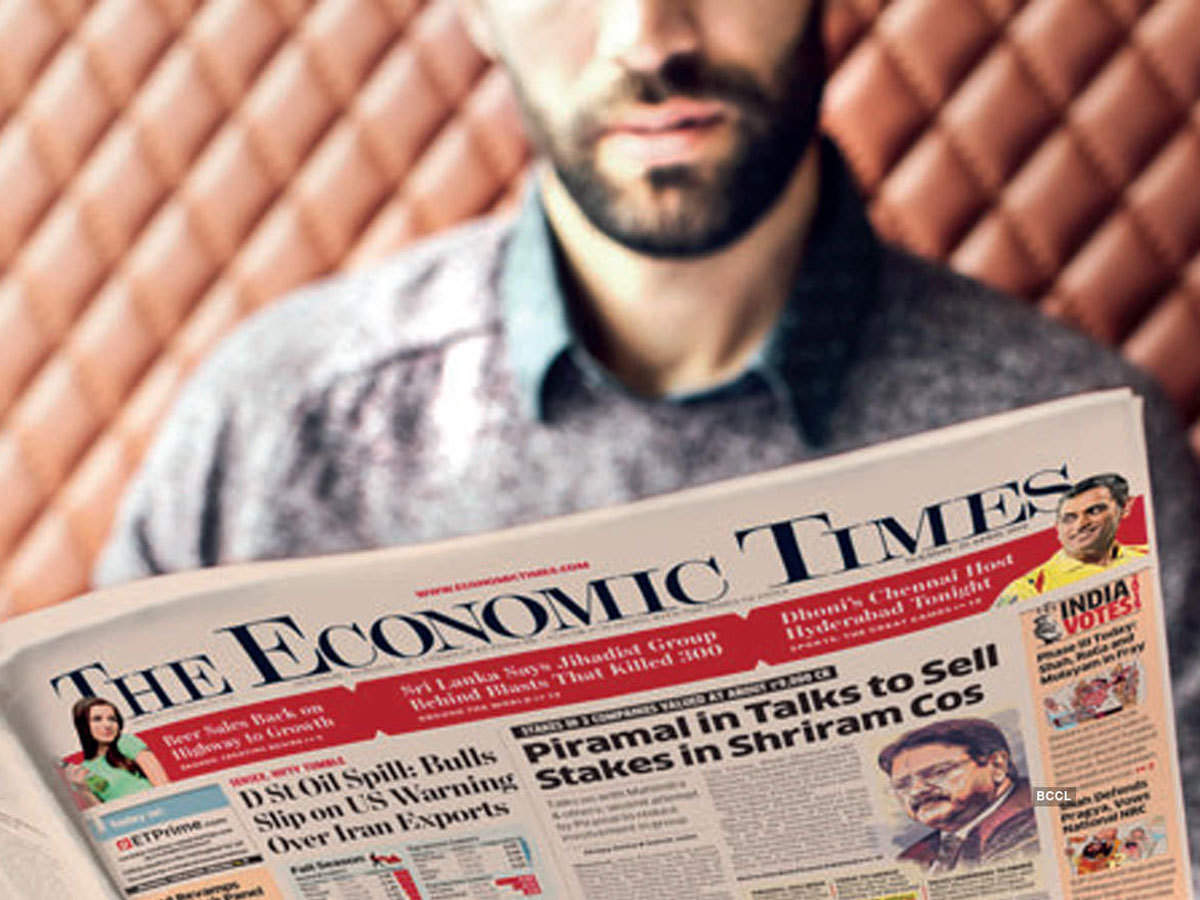news_paper: (4, 376, 1197, 900)
